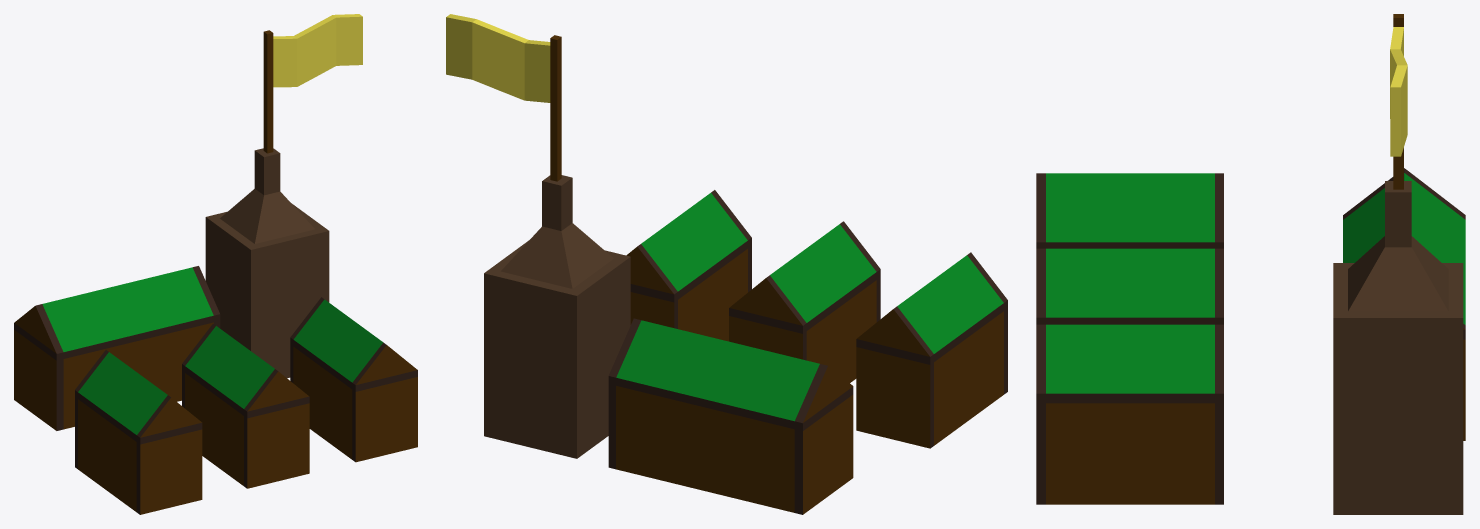
File: SM_TileStorehouse.fbx
3 views of the same model, side by side, from view 1: azimuth 30°, elevation 25°; view 2: azimuth 150°, elevation 25°; view 3: azimuth 270°, elevation 25° (orthographic). The views are drawn at different scales.
Visible parts, largest first — view 1: TileStorehouse, TileStorehouseFlag; view 2: TileStorehouse, TileStorehouseFlag; view 3: TileStorehouse, TileStorehouseFlag.
Boxes of the visible parts, box(x1,y1,x2,y2) form: TileStorehouse: box(14, 148, 417, 514); TileStorehouseFlag: box(263, 14, 362, 153); TileStorehouse: box(484, 175, 1007, 514); TileStorehouseFlag: box(446, 14, 561, 181); TileStorehouse: box(1036, 168, 1465, 514); TileStorehouseFlag: box(1390, 14, 1407, 189).
Size of the model in its own units: 454 by 412 by 340.
